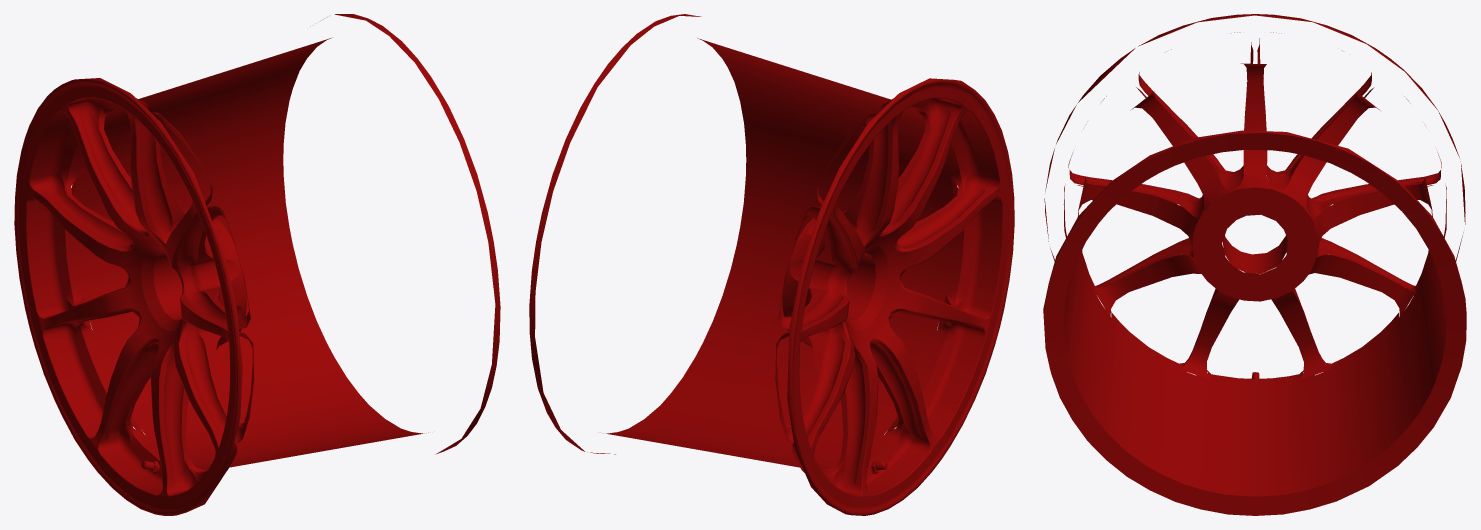
Rendered from honda_nsx_gt3_rim_rf_Lod1.gltf.
3 renders of one model, left to right at view 1: azimuth 30°, elevation 25°; view 2: azimuth 150°, elevation 25°; view 3: azimuth 270°, elevation 25°, orthographic. The views are drawn at different scales.
Visible parts, largest first — view 1: honda_nsx_gt3_rim_rf_Lod1; view 2: honda_nsx_gt3_rim_rf_Lod1; view 3: honda_nsx_gt3_rim_rf_Lod1.
Boxes of the visible parts, x1,y1,x2,y2 form: honda_nsx_gt3_rim_rf_Lod1: (14, 14, 500, 515); honda_nsx_gt3_rim_rf_Lod1: (529, 14, 1014, 515); honda_nsx_gt3_rim_rf_Lod1: (1043, 14, 1466, 515).
Size of the model in its own units: 0.336 by 0.5002 by 0.5011.
